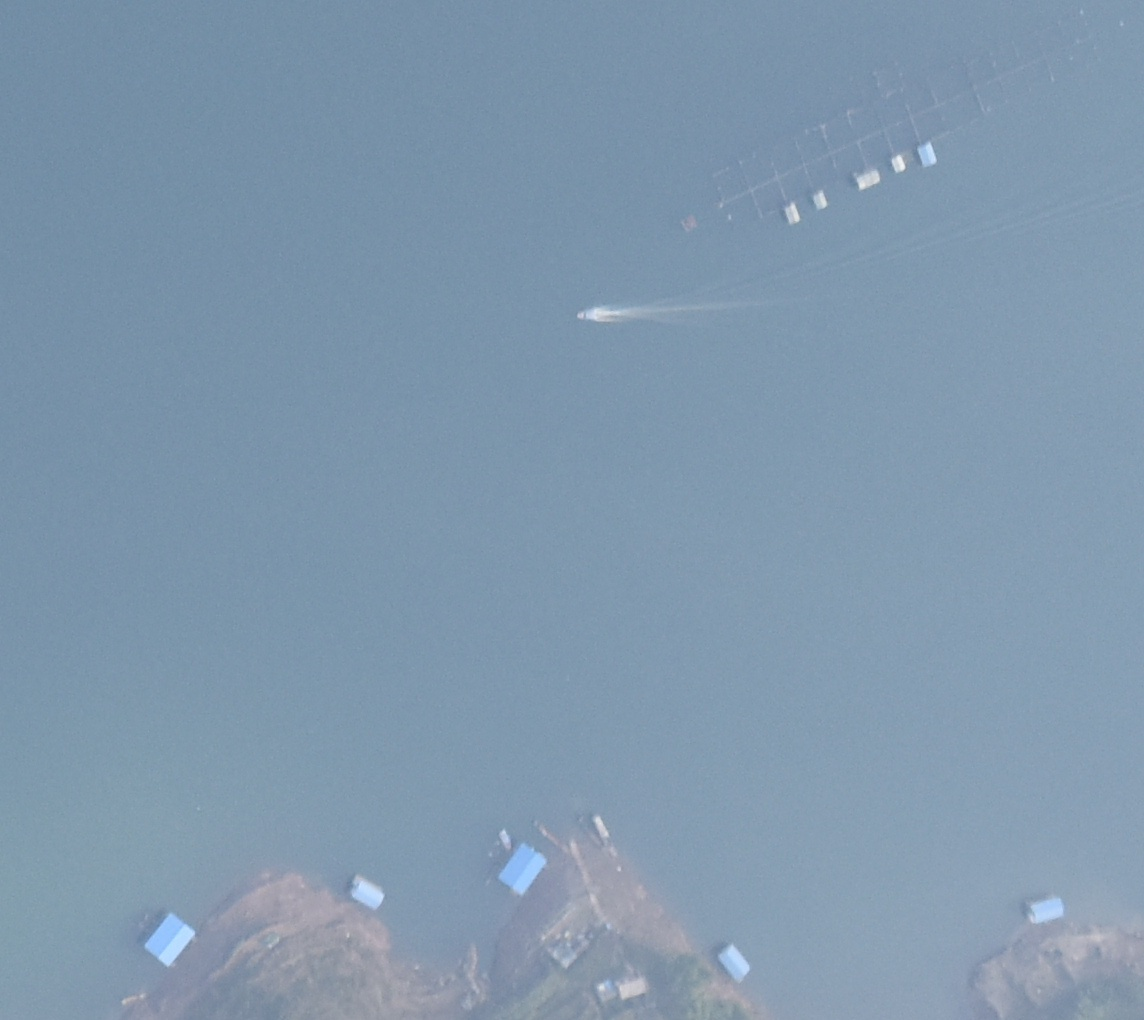building: (618, 976, 649, 1000), (594, 978, 616, 1004)
cultivation-mesh-cage: (679, 8, 1101, 252)
prefabricated-house: (145, 911, 196, 968), (498, 844, 549, 896), (349, 875, 385, 911), (718, 944, 750, 981), (1027, 898, 1065, 923), (855, 168, 883, 190), (916, 142, 939, 167), (783, 203, 802, 225), (810, 189, 829, 210), (889, 154, 907, 172)
ship: (530, 820, 570, 857), (591, 812, 620, 860), (576, 817, 603, 850), (574, 307, 605, 322), (497, 828, 517, 851)
